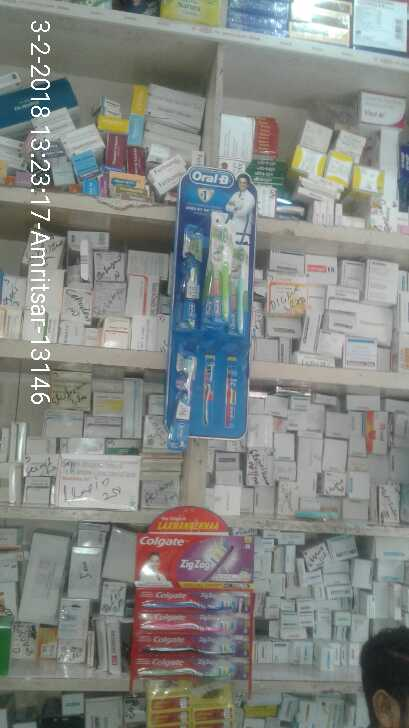oralb: (212, 217, 233, 326), (232, 235, 252, 336), (173, 345, 193, 445), (182, 229, 201, 328)
